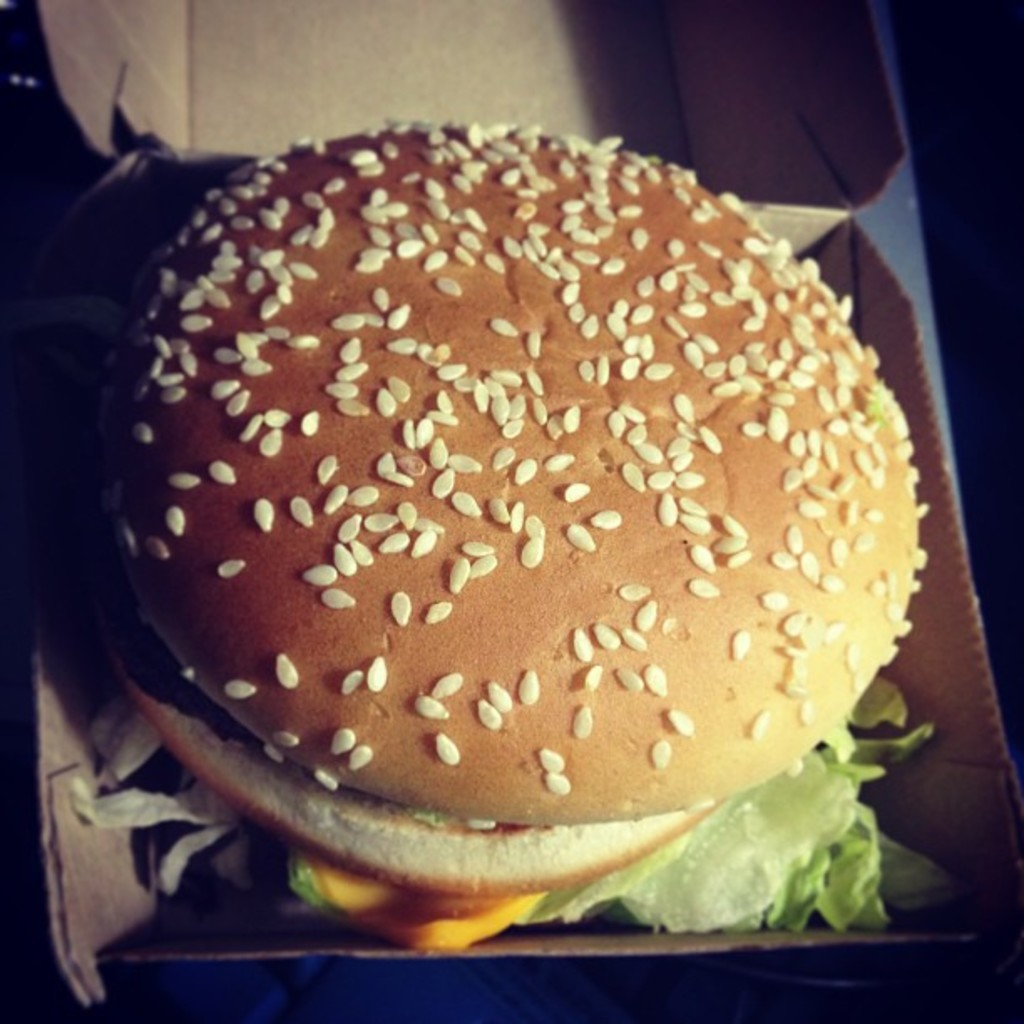Hamburger: (98, 120, 955, 948)
